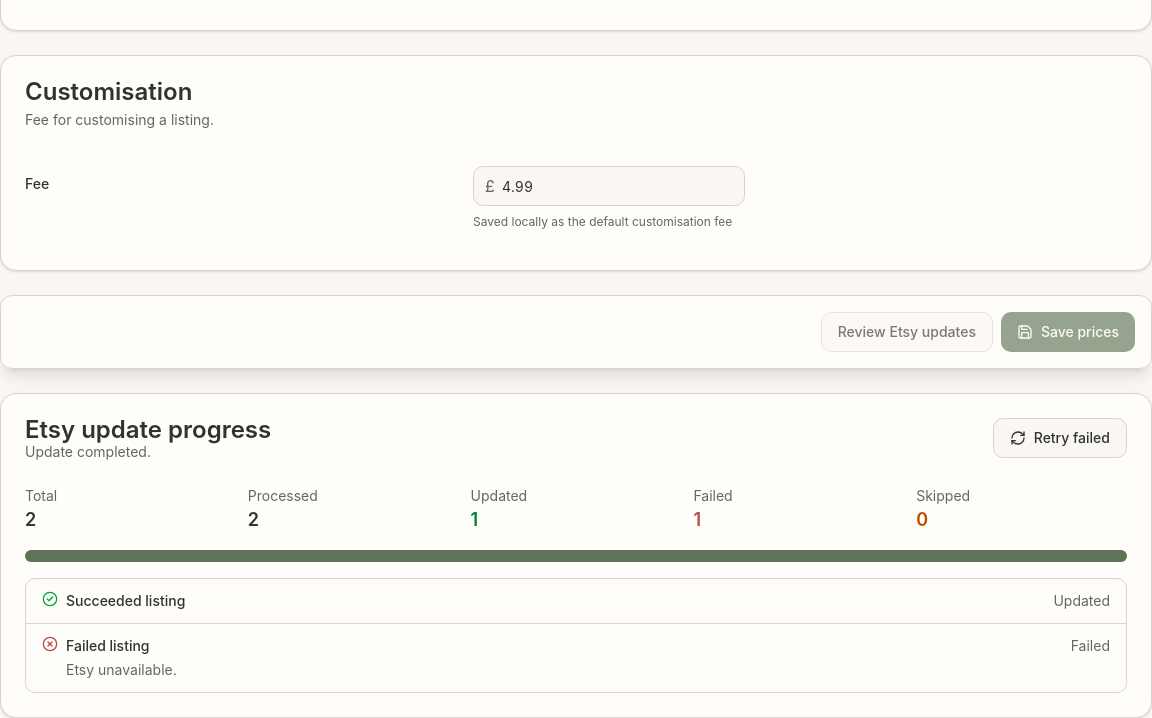
Test: Set Prices screen › shows real partial-failure progress and retries only failed listings
(page scrolled)
Expected: the text "Etsy unavailable." is shown, top-left (66, 660), bottom-right (177, 680)
Click the button "Retry failed" at (1060, 438), box top-left (993, 418), bottom-right (1127, 458)
(page scrolled)
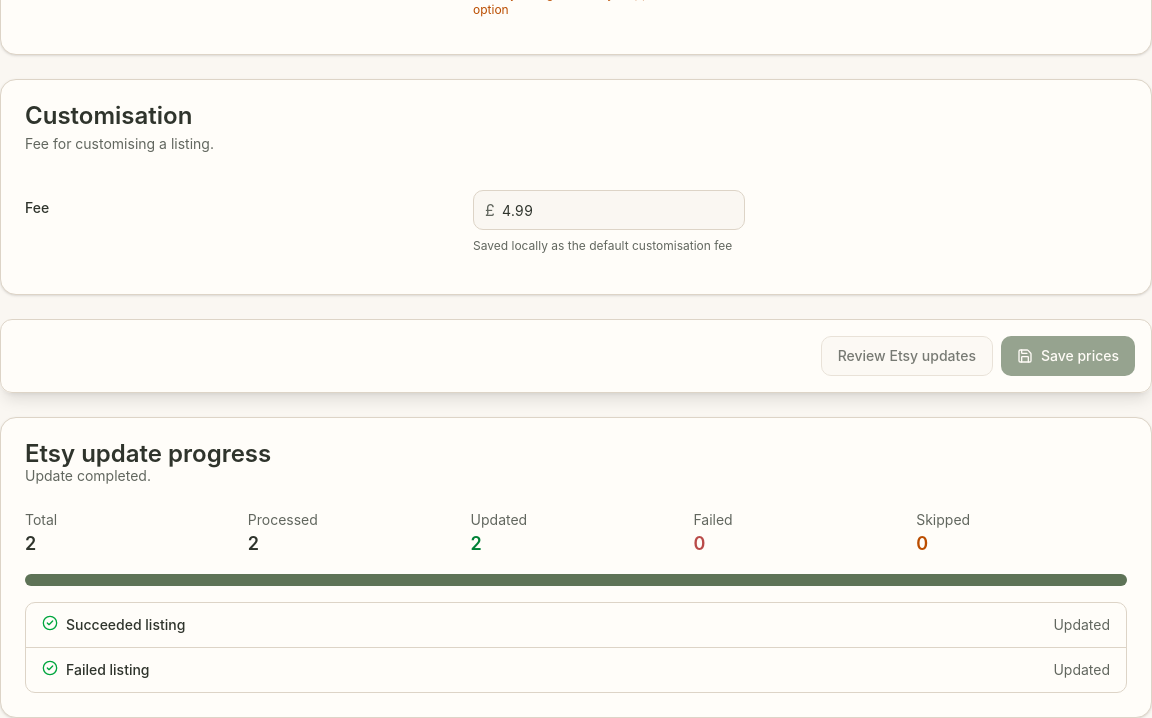
Now the text "Etsy unavailable." is gone
